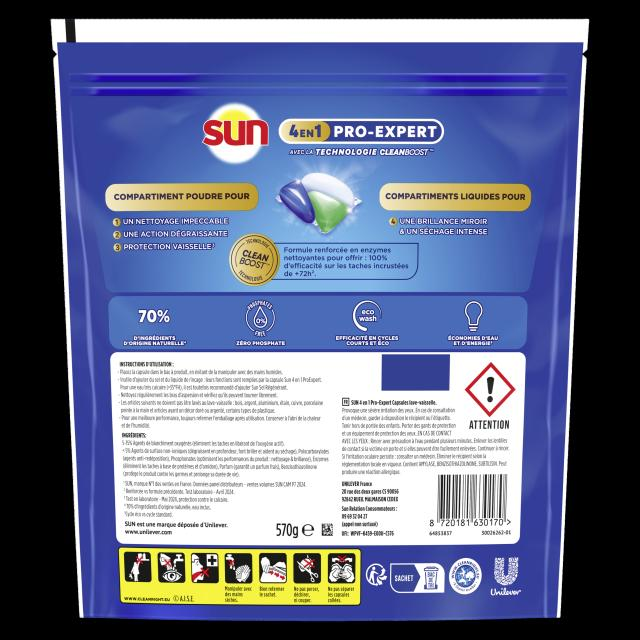GHS_Symbol_EXCLAMATION_MARK: (464, 362, 515, 418)
